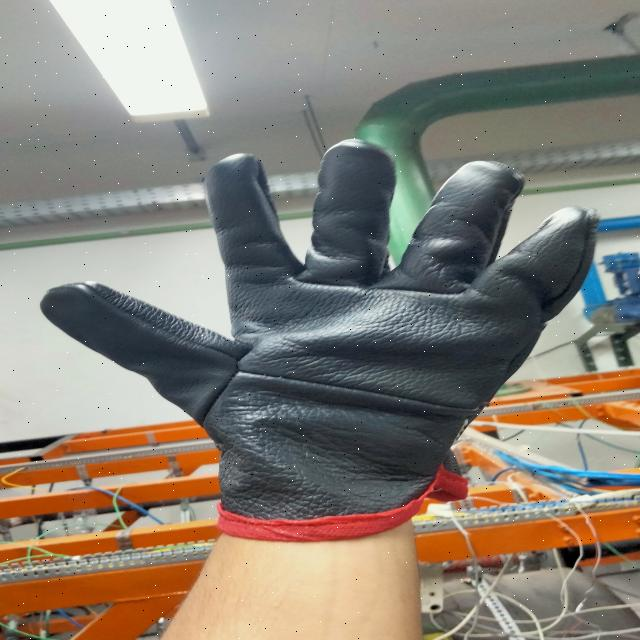Gloves: (42, 136, 588, 531)
